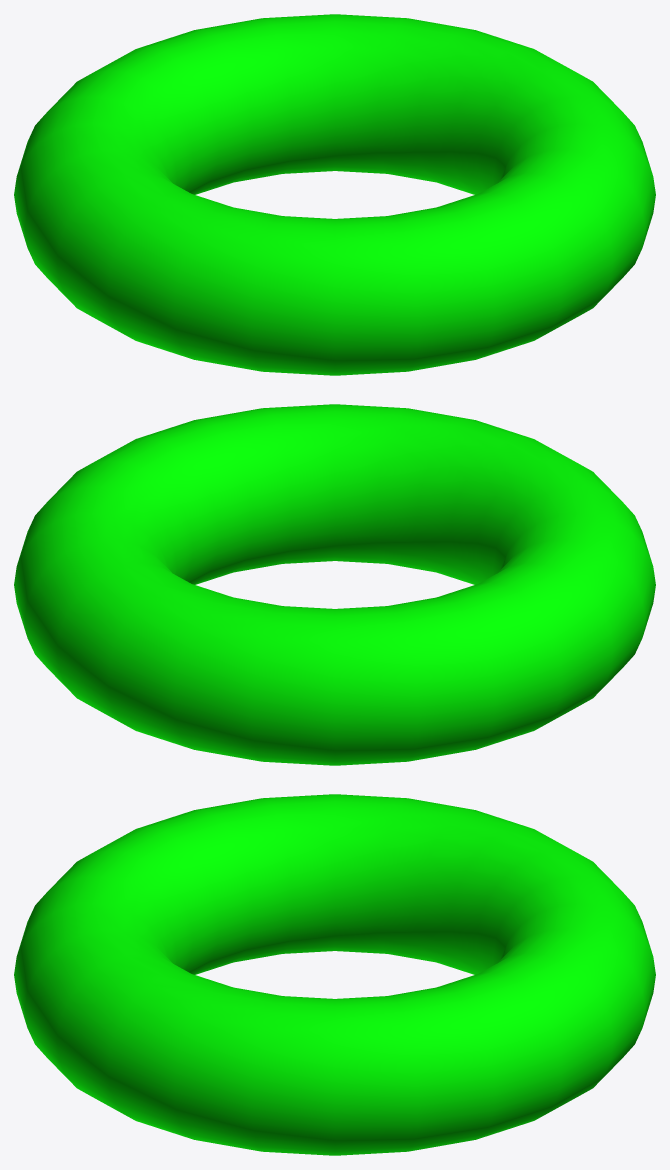
Rendered from anilloverdep.obj.
3 views of the same model, one above another, from view 1: azimuth 30°, elevation 25°; view 2: azimuth 150°, elevation 25°; view 3: azimuth 270°, elevation 25° (orthographic).
Parts seen in each view (by area): view 1: anilloverde; view 2: anilloverde; view 3: anilloverde.
Part boxes in pixels (left/top/right/bottom): anilloverde: left=14, top=14, right=655, bottom=375; anilloverde: left=14, top=404, right=655, bottom=765; anilloverde: left=14, top=794, right=655, bottom=1155.
Size of the model in its own units: 0.9572 by 0.2347 by 0.9572.
Materials: 1 (1 with a texture image).
